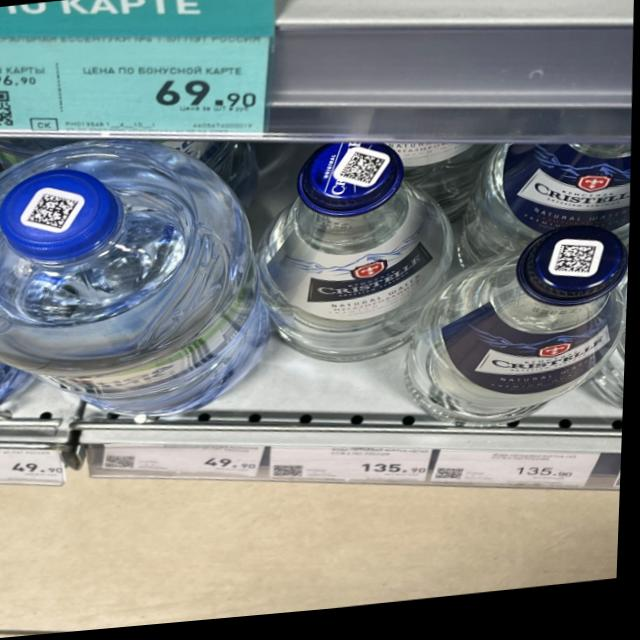datamatrix: (28, 191, 82, 232), (341, 155, 389, 193), (556, 252, 600, 287)
qrcode: (109, 454, 140, 473), (1, 89, 16, 127), (277, 468, 308, 485), (439, 474, 469, 490)
